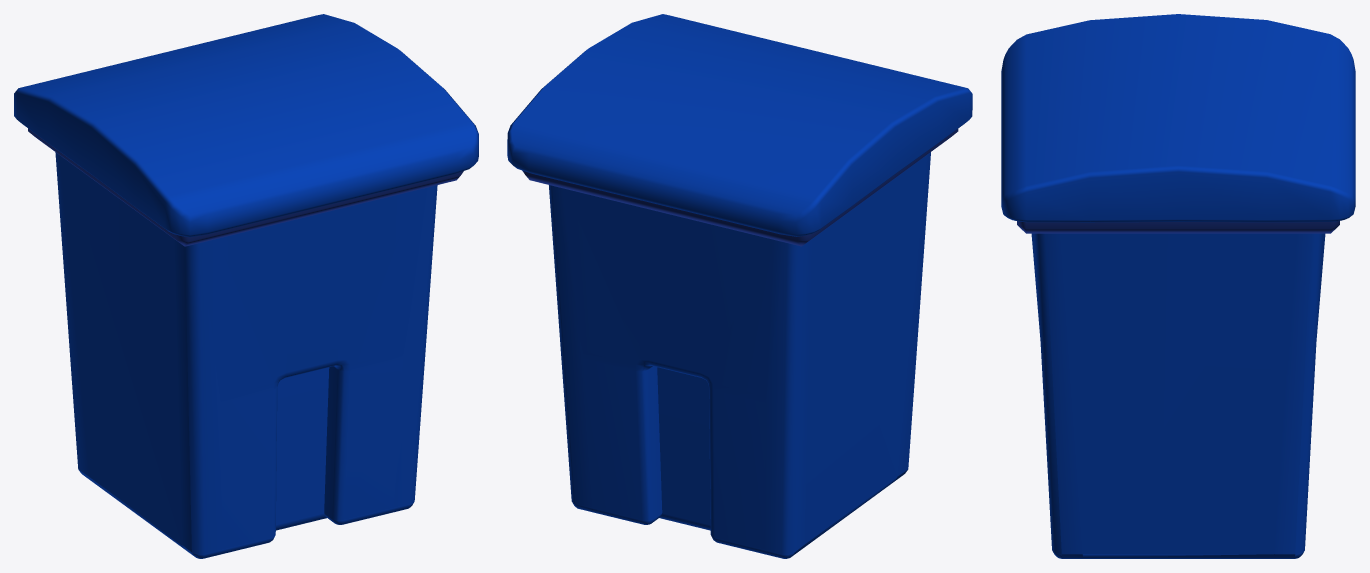
The model's file is SM_Trash_Bin_01.fbx.
The picture shows the model from 3 angles, left to right: view 1: azimuth 30°, elevation 25°; view 2: azimuth 150°, elevation 25°; view 3: azimuth 270°, elevation 25°; orthographic projection. The views are drawn at different scales.
Parts seen in each view (by area): view 1: SM_Trash_Bin_01; view 2: SM_Trash_Bin_01; view 3: SM_Trash_Bin_01.
Boxes of the visible parts, x1,y1,x2,y2 form: SM_Trash_Bin_01: (14,14,478,558); SM_Trash_Bin_01: (507,14,972,558); SM_Trash_Bin_01: (1001,14,1355,558).
Bounding box in the file's own units: 200 × 250 × 192.
